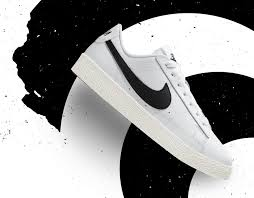nike: (99, 27, 185, 122)
